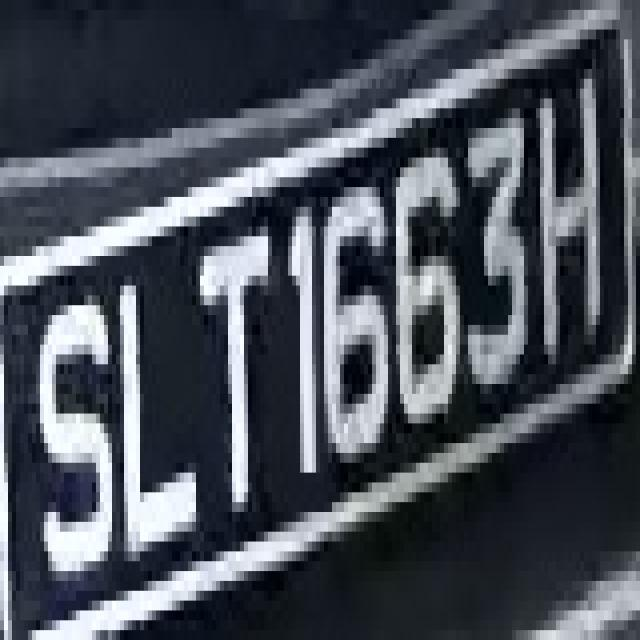1: (280, 187, 324, 522)
3: (460, 99, 524, 424)
6: (380, 128, 464, 443), (316, 187, 392, 492)
H: (528, 69, 620, 374)
L: (108, 256, 208, 581)
S: (32, 266, 112, 610)
T: (180, 216, 280, 542)
